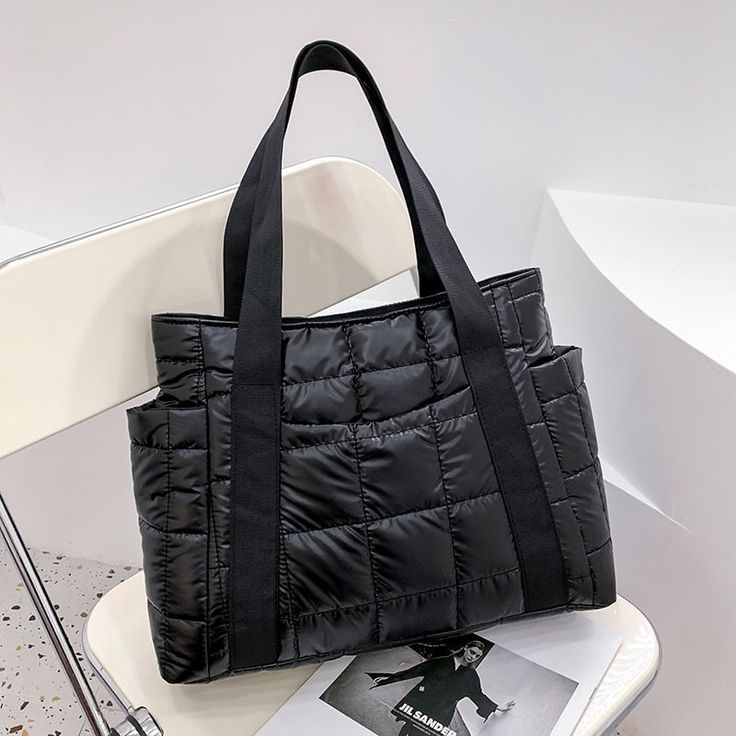nylon: (125, 40, 617, 681)
